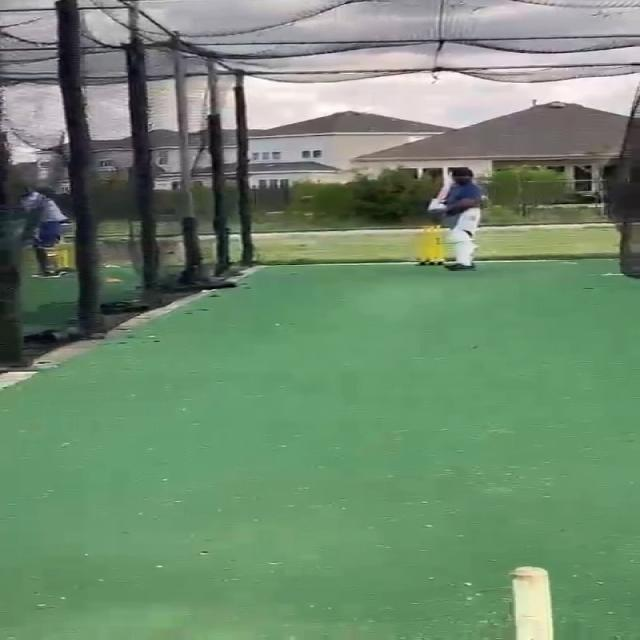batsman: (425, 166, 487, 272)
